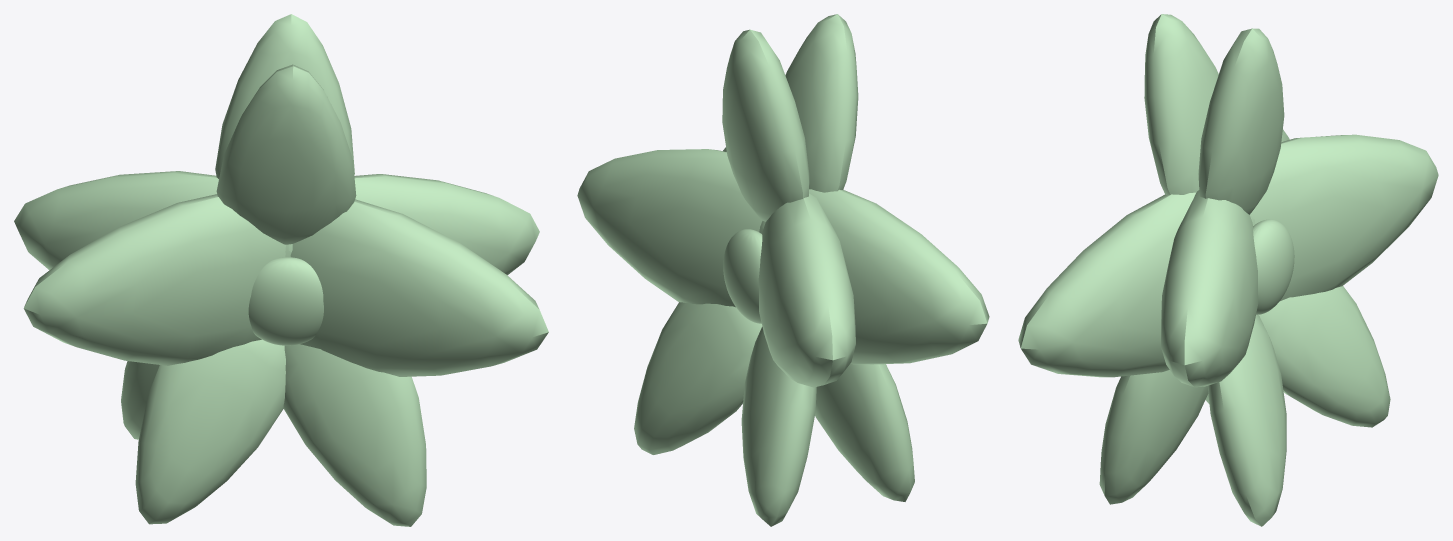
Rendered from star.002.gltf.
3 renders of one model, left to right at view 1: azimuth 30°, elevation 25°; view 2: azimuth 150°, elevation 25°; view 3: azimuth 270°, elevation 25°, orthographic. The views are drawn at different scales.
Parts seen in each view (by area): view 1: star.002; view 2: star.002; view 3: star.002.
Part boxes in pixels (x1,y1,x2,y2): star.002: (14,14,548,526); star.002: (577,14,989,526); star.002: (1018,14,1438,526).
Bounding box in the file's own units: 13.09 × 12.48 × 10.45.
